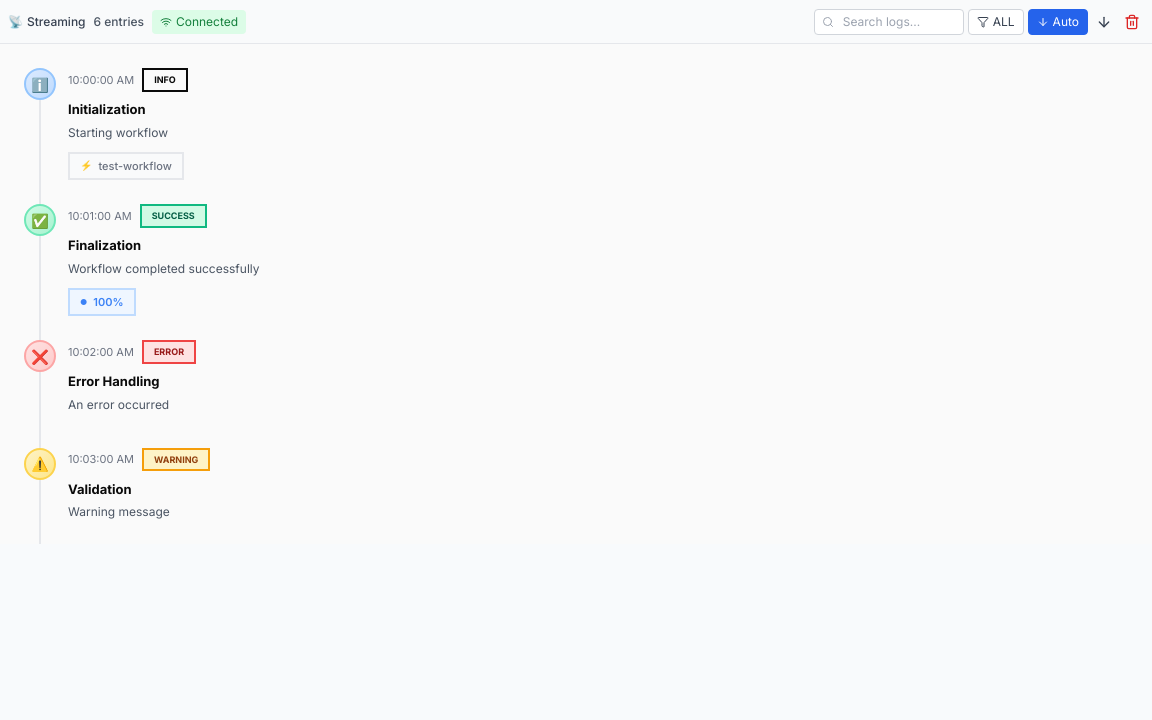
Test: LiveLogsPanel Component › Filtering › should filter logs by level
# Open filter menu
Click the button titled "Filter by level": point(996, 22) x1=968 y1=8 x2=1024 y2=34
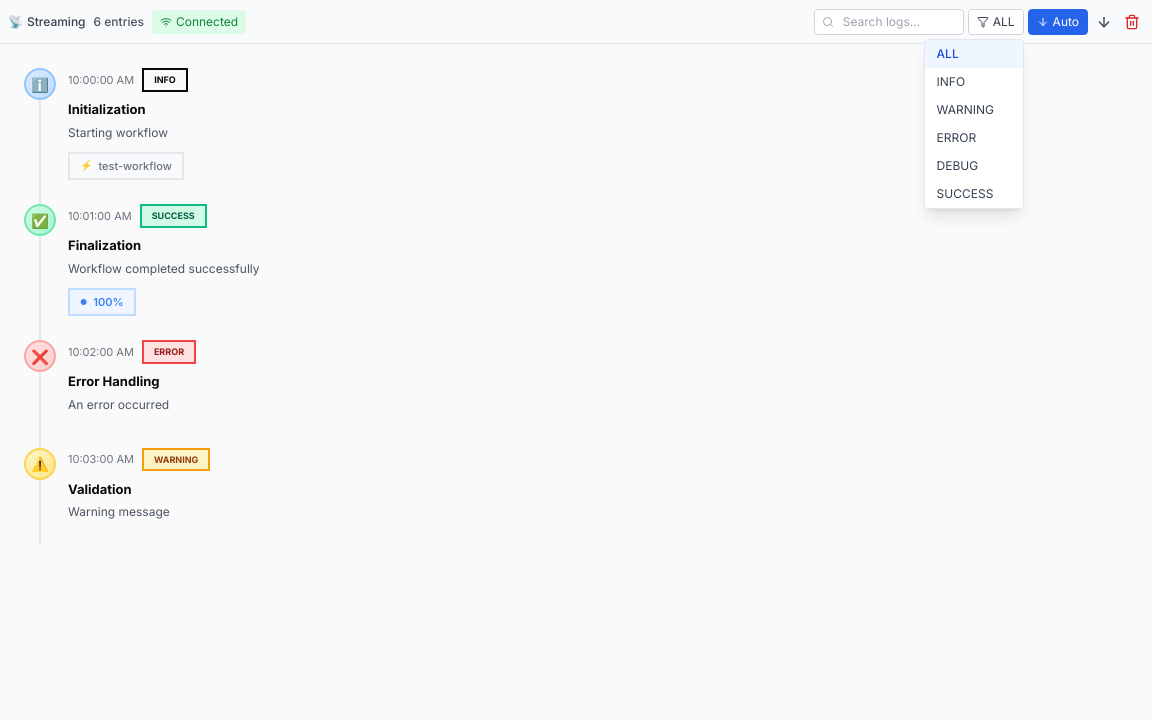
# Select ERROR filter
Click the button "ERROR": point(974, 138) x1=925 y1=124 x2=1023 y2=152
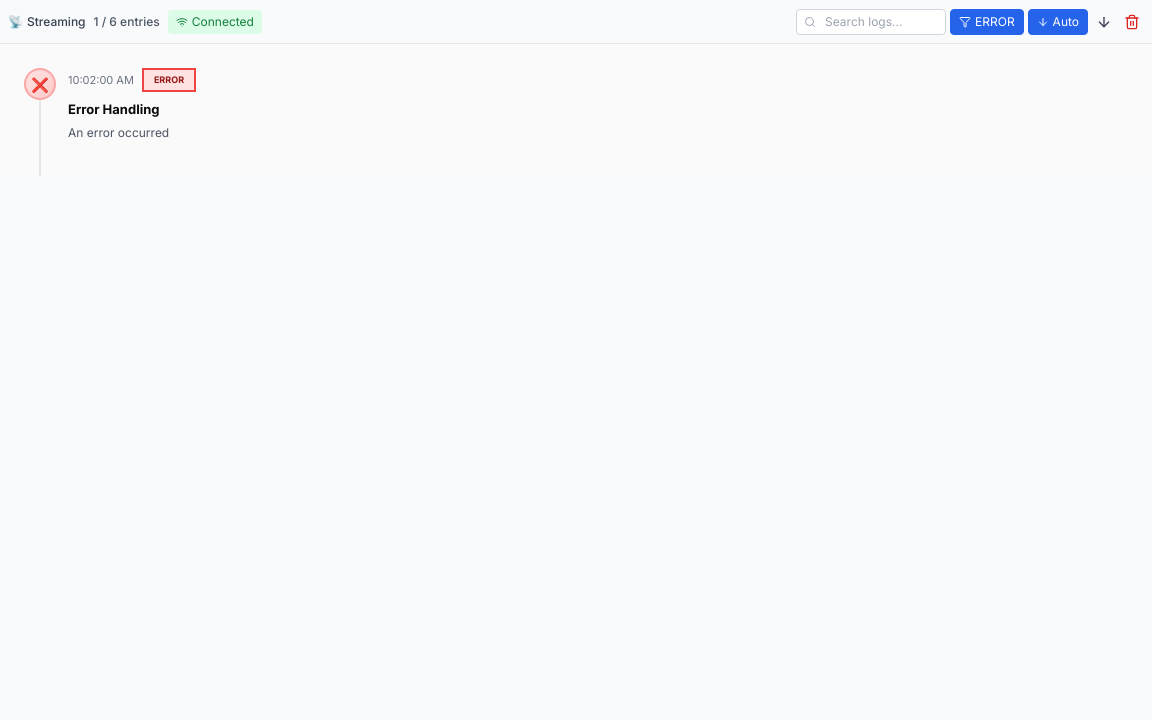
Expected: the text "An error occurred" is shown, x1=68 y1=124 x2=169 y2=140
Expected: the text "Starting workflow" is gone
